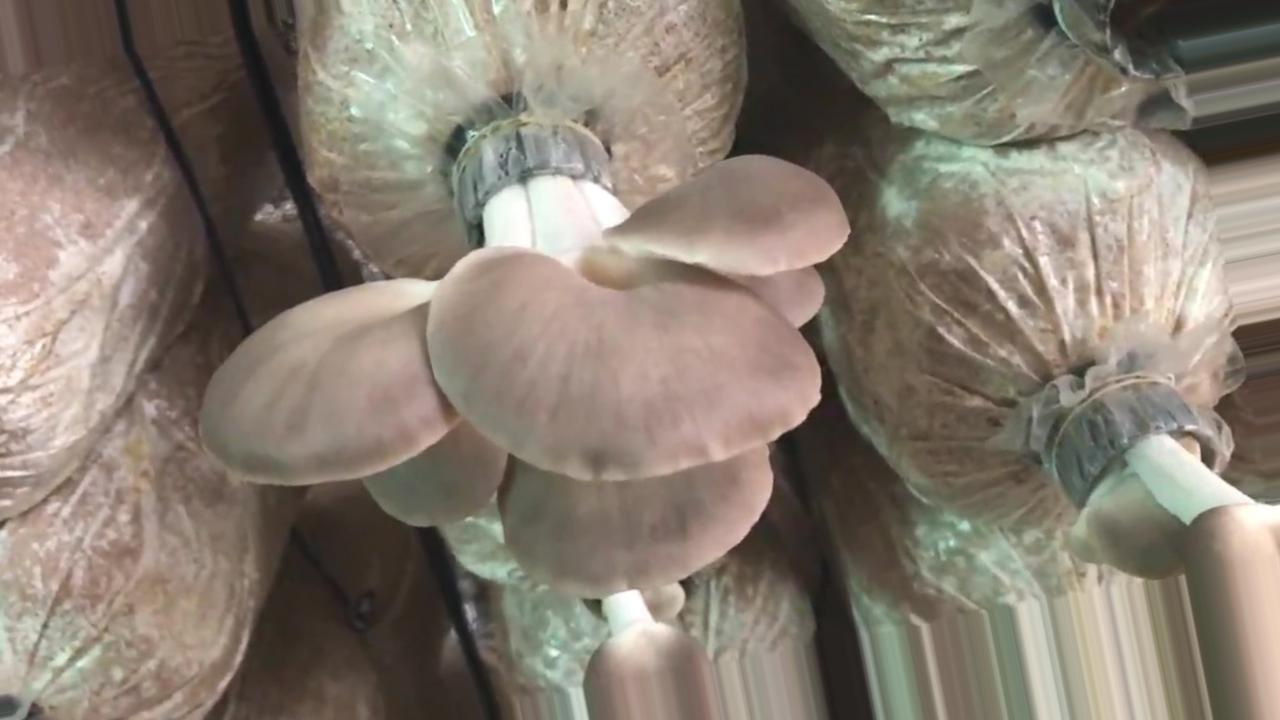nam: (200, 121, 849, 596), (1067, 384, 1280, 720), (583, 580, 712, 720)
